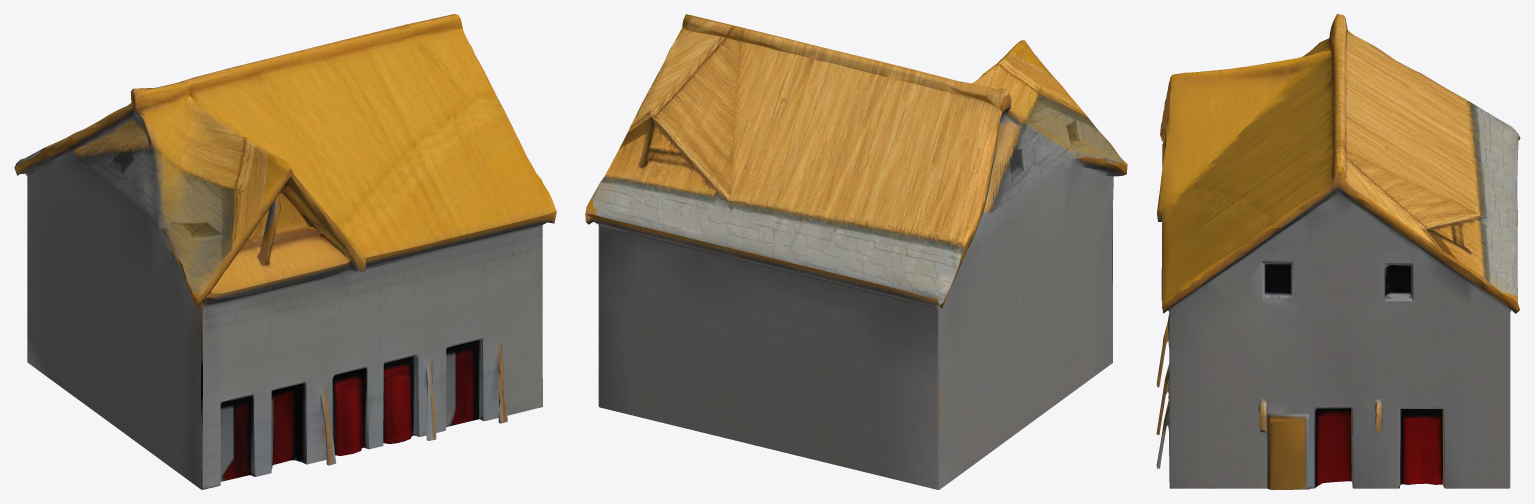
File: tawantinsuyu_cuartel.glb
3 views of the same model, side by side, from view 1: azimuth 30°, elevation 25°; view 2: azimuth 150°, elevation 25°; view 3: azimuth 270°, elevation 25° (orthographic). The views are drawn at different scales.
Parts seen in each view (by area): view 1: geometry_0; view 2: geometry_0; view 3: geometry_0.
Part boxes in pixels (box(x1,y1,x2,y2)): geometry_0: box(14, 14, 556, 489); geometry_0: box(585, 14, 1127, 489); geometry_0: box(1156, 14, 1520, 489).
Size of the model in its own units: 2.4 by 2.1 by 2.15.
Materials: 1 (1 with a texture image).
